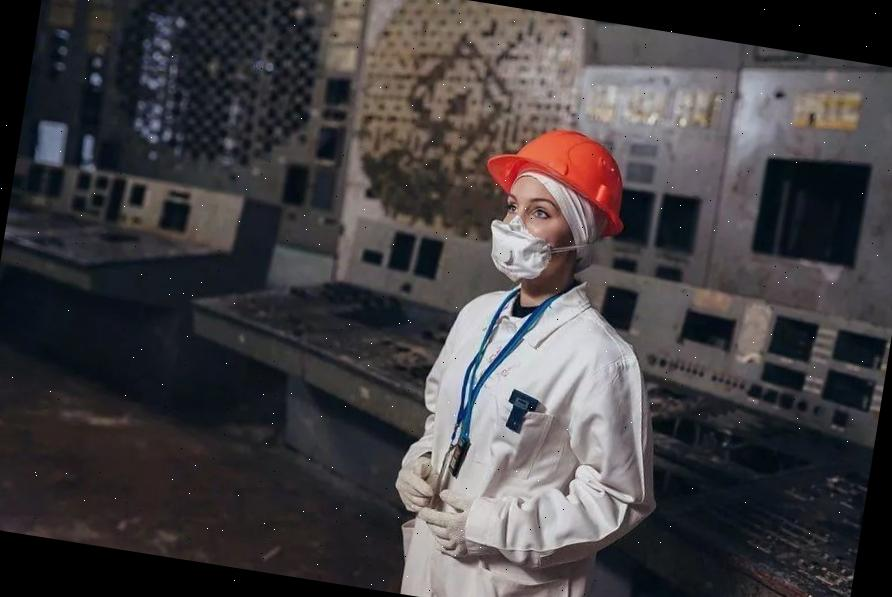helmet: (477, 115, 634, 232)
